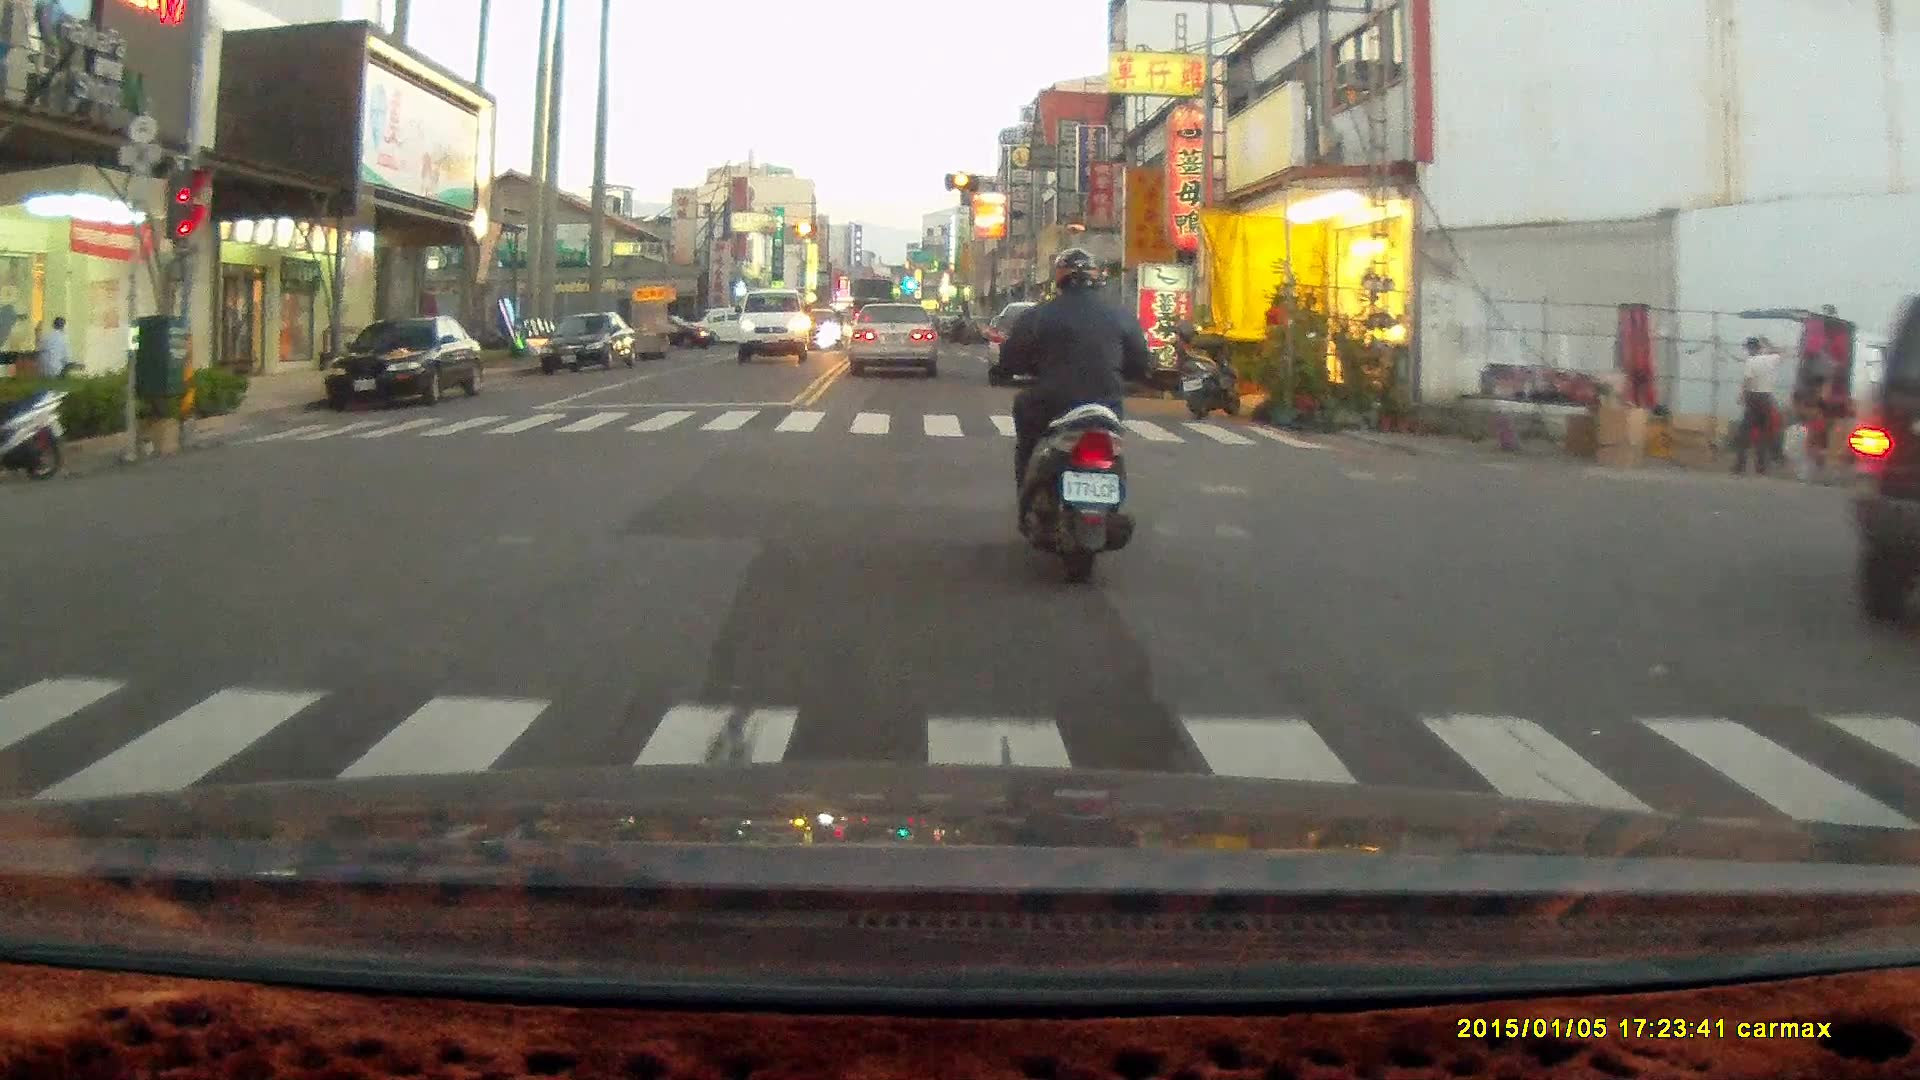pedestrian: (1731, 334, 1782, 478), (1259, 291, 1294, 408), (39, 314, 70, 391)
rider: (994, 247, 1149, 586)
vehicle: (320, 316, 483, 414), (850, 301, 942, 376), (541, 312, 638, 378), (737, 290, 811, 365)
